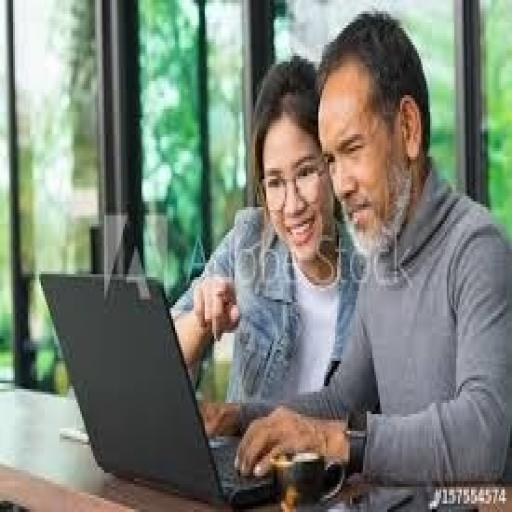using_laptop: (38, 266, 280, 509)
